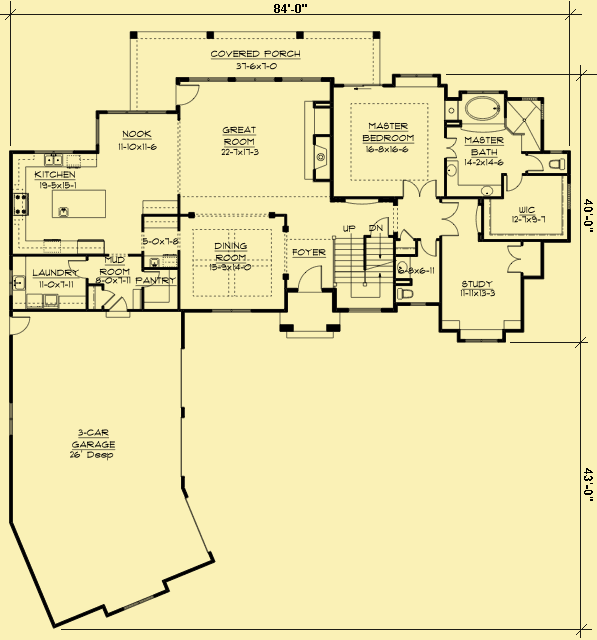door: (437, 198, 462, 239), (172, 83, 203, 111), (399, 179, 439, 199), (296, 264, 323, 293), (504, 242, 527, 276), (9, 315, 34, 338), (524, 152, 547, 176), (420, 235, 439, 262), (503, 172, 524, 195), (67, 258, 87, 281), (108, 296, 132, 314), (444, 136, 459, 159)
kitchen_bar: (51, 187, 112, 224)
large_sink: (396, 283, 417, 303), (548, 154, 568, 172)
sink: (14, 273, 27, 294)
small_sink: (448, 183, 503, 201)
stairs: (330, 232, 393, 311)
tub: (459, 94, 508, 128)
twin_sink: (42, 154, 65, 171)
